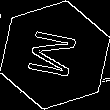M_E: (25, 27, 85, 83)
